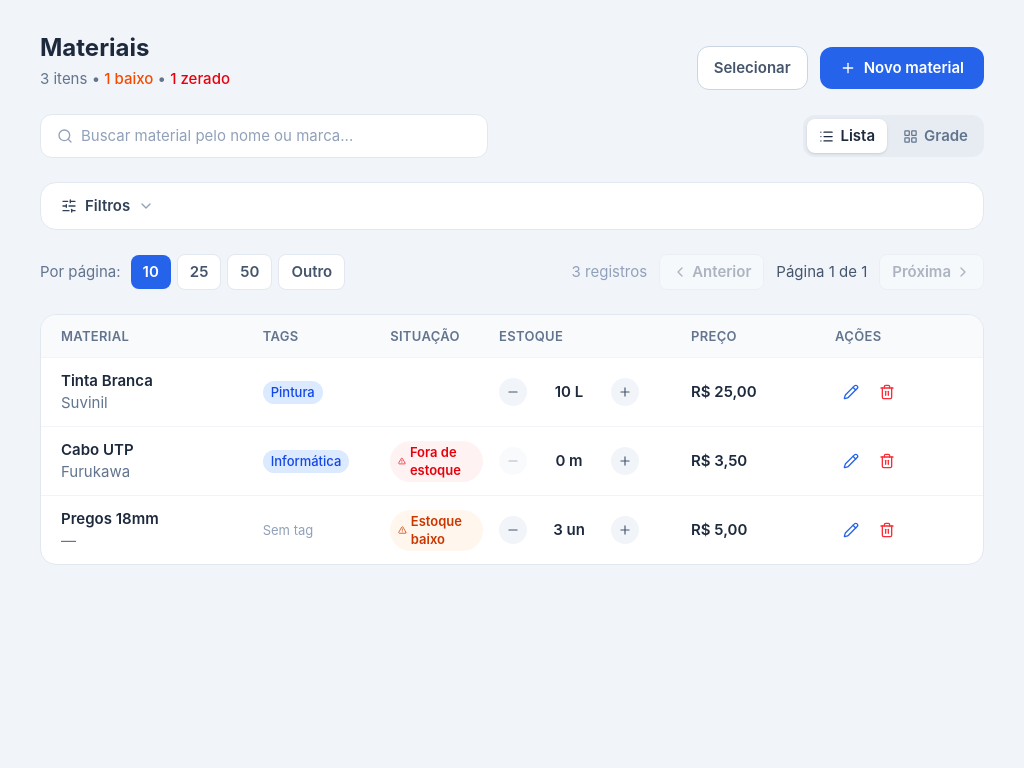
it: tela de Materiais › exclui um material depois de confirmar
Expected: the text "Tinta Branca" is shown, left=61, top=370, right=153, bottom=392
Click the button named "Excluir" next to "R$ 25,00" at (887, 392), box left=871, top=376, right=903, bottom=408
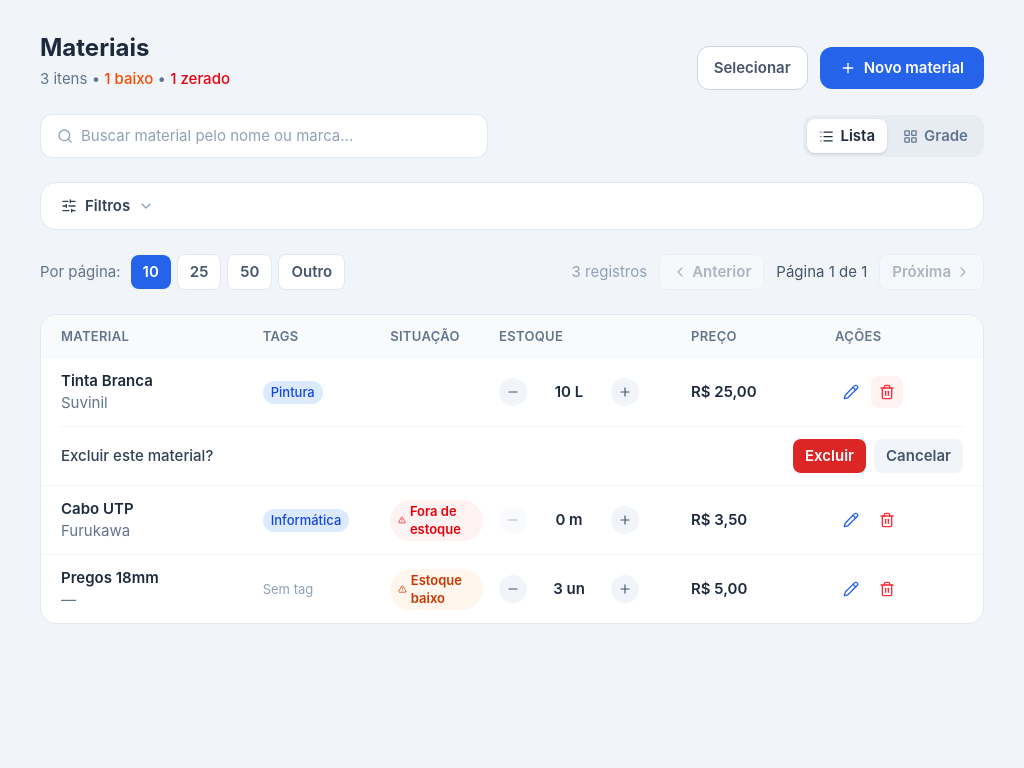
Click the button "Excluir" at (830, 456), box left=793, top=439, right=866, bottom=473
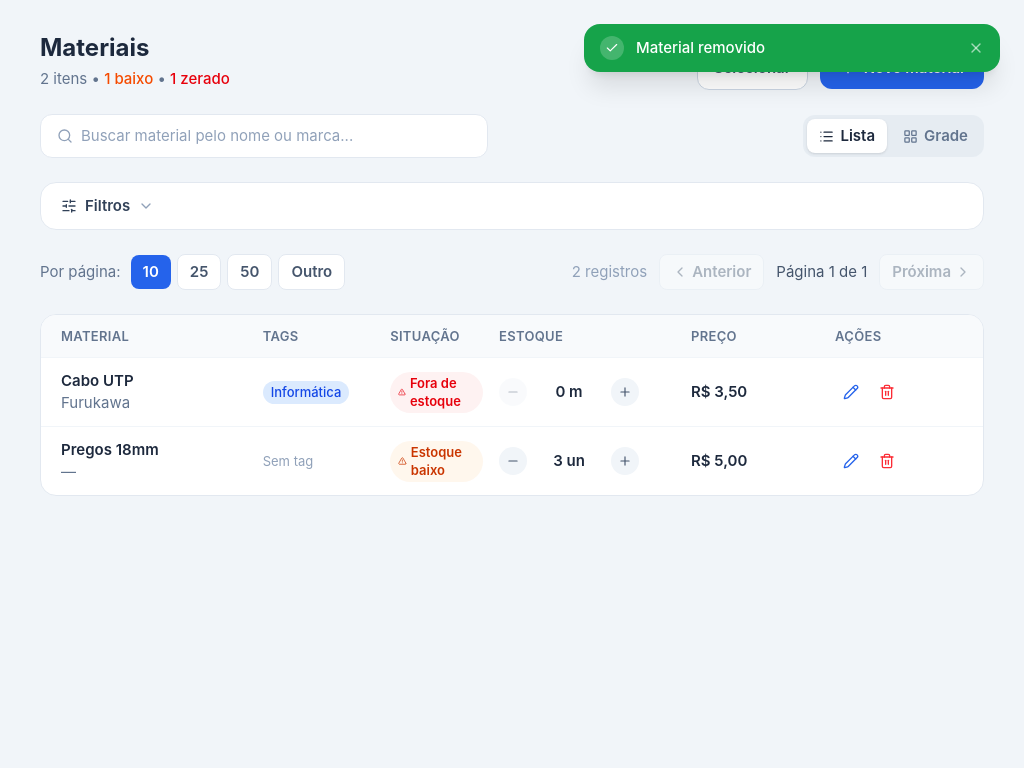
Now the text "Tinta Branca" is gone
Now the text "Material removido" is shown, box left=636, top=38, right=765, bottom=57
